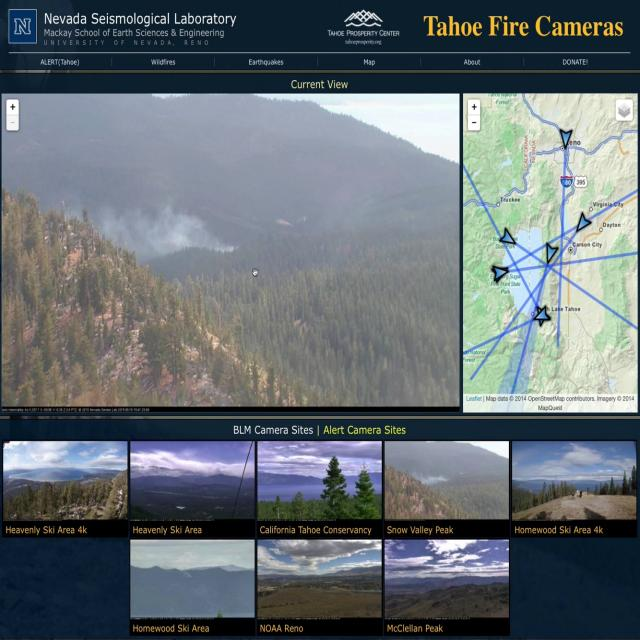smoke: (86, 196, 251, 258)
